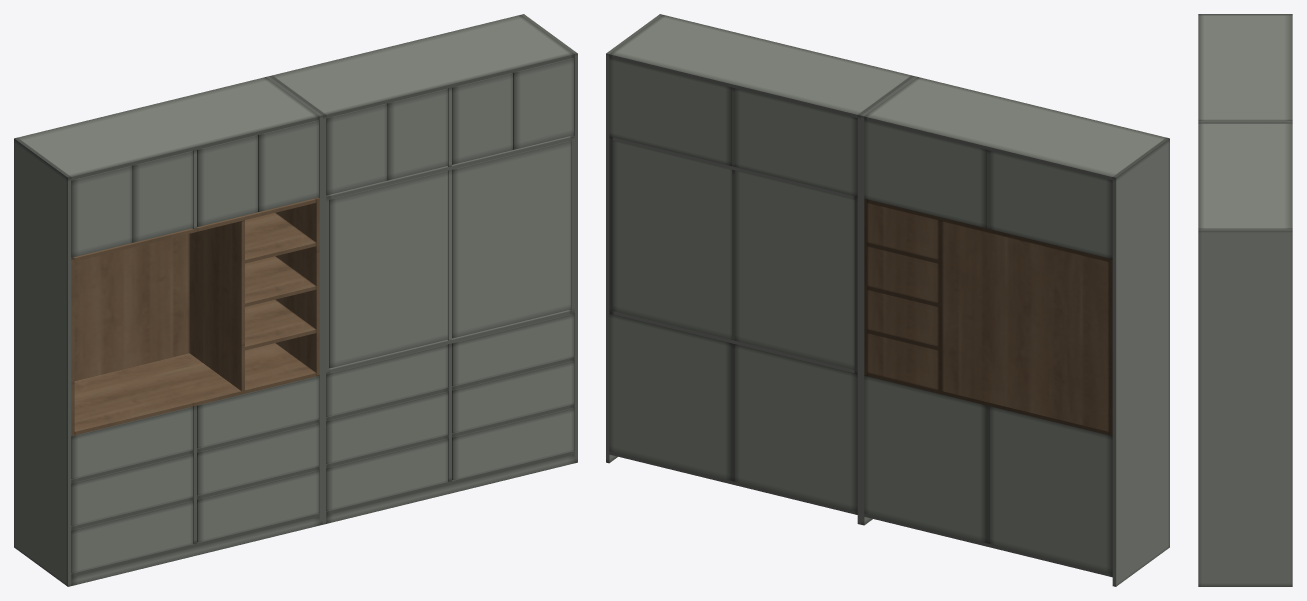
The model's file is meublep.glb.
3 renders of one model, left to right at view 1: azimuth 30°, elevation 25°; view 2: azimuth 150°, elevation 25°; view 3: azimuth 270°, elevation 25°, orthographic. The views are drawn at different scales.
Visible parts, largest first — view 1: world; view 2: world; view 3: world.
Part boxes in pixels (x1,y1,x2,y2): world: (14, 14, 577, 586); world: (606, 14, 1169, 586); world: (1198, 14, 1292, 586).
Bounding box in the file's own units: 3 × 2.3 × 0.55.
1 material, 1 textured.
